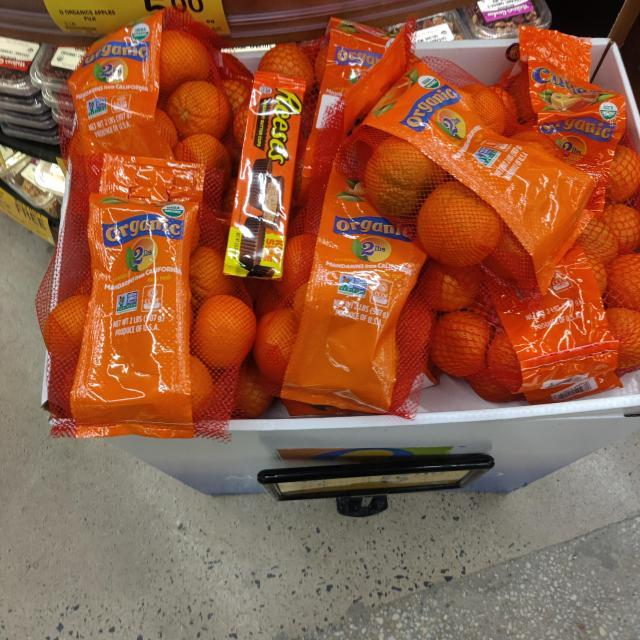Clementine: (56, 152, 256, 448), (415, 211, 640, 420), (368, 66, 588, 276), (276, 169, 428, 435), (57, 19, 249, 166)
